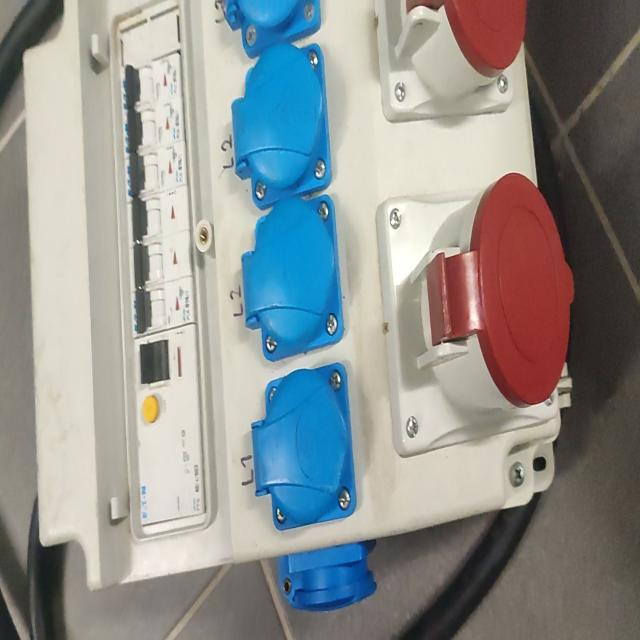400v socket: (376, 174, 574, 458), (374, 1, 527, 124)
house plug covered: (250, 362, 358, 531), (243, 192, 345, 362), (230, 42, 332, 210), (277, 536, 380, 612), (221, 0, 322, 56)
